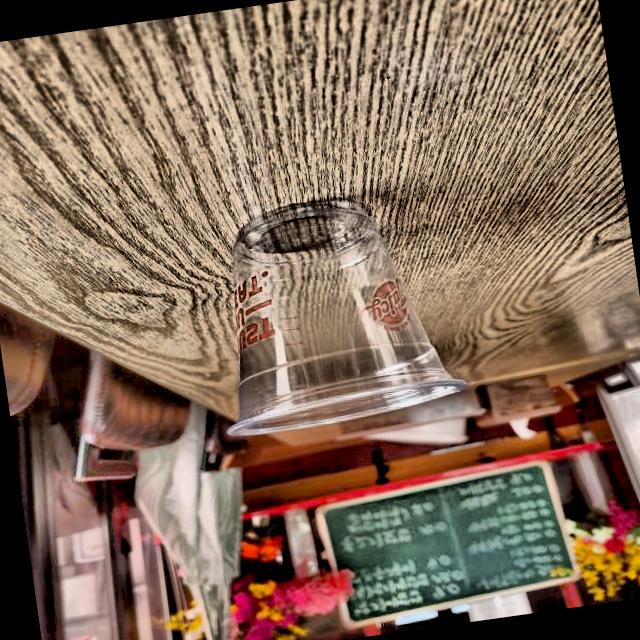plastic cup: (186, 176, 477, 453)
